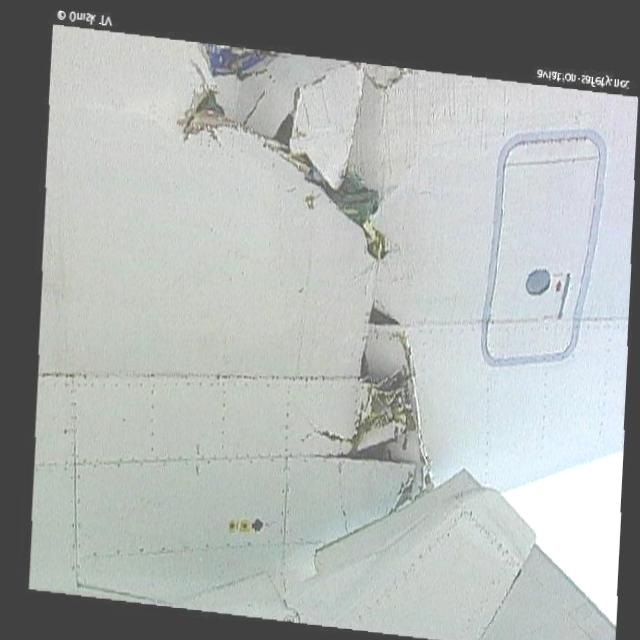crack: (161, 60, 459, 522), (183, 89, 387, 261), (347, 370, 423, 462), (207, 44, 266, 77), (391, 475, 414, 513), (369, 304, 401, 328), (229, 515, 264, 532)
